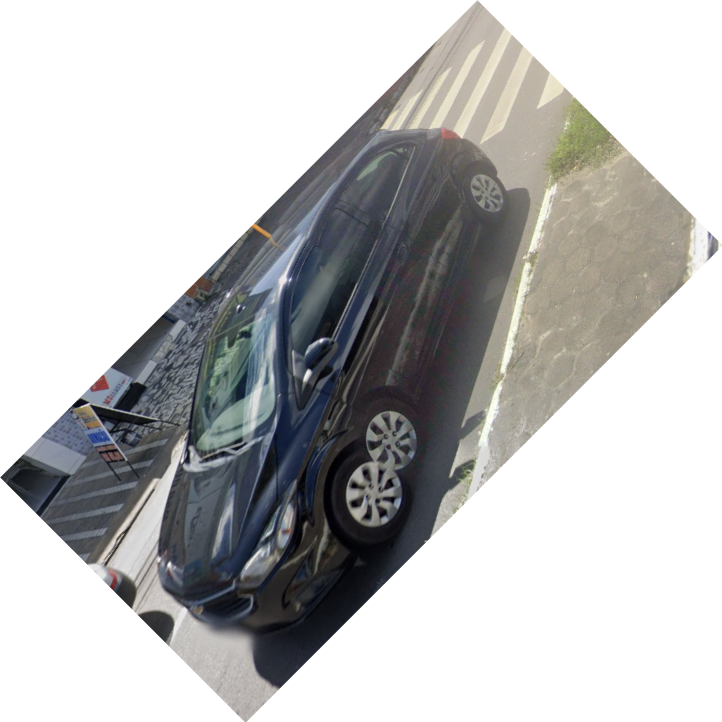car: (159, 126, 508, 631)
